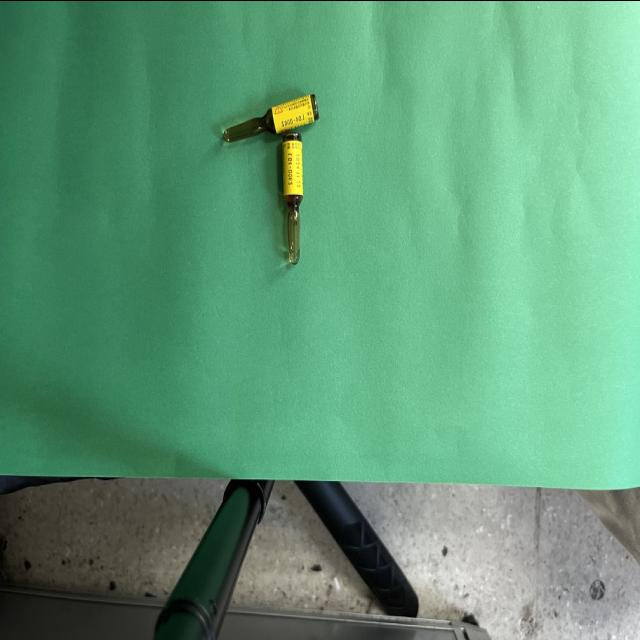Ampoules: (222, 93, 319, 141), (282, 131, 303, 264)
